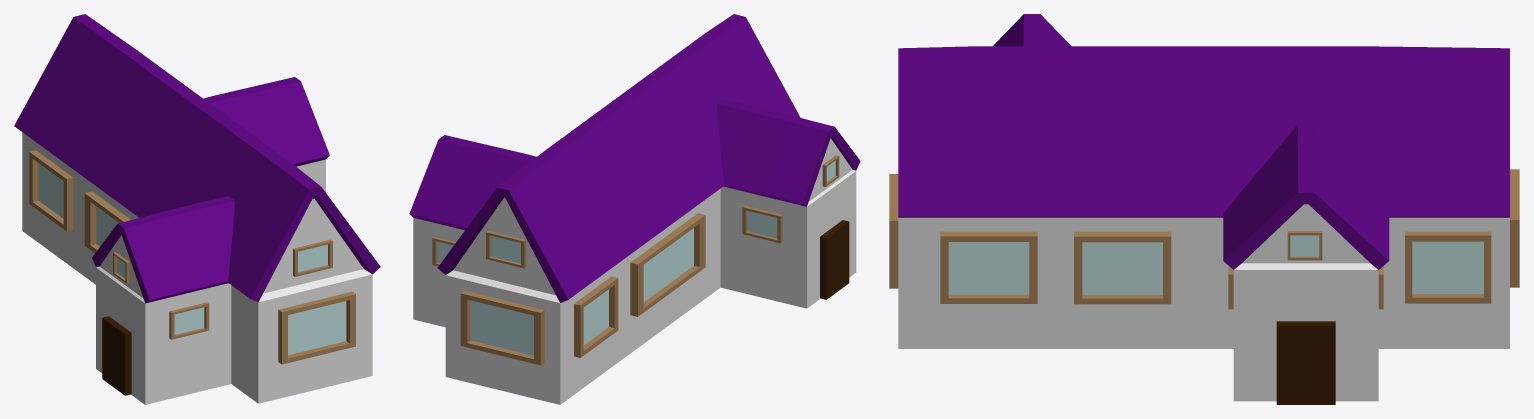
The model's file is House_Purple.fbx.
3 views of the same model, side by side, from view 1: azimuth 30°, elevation 25°; view 2: azimuth 150°, elevation 25°; view 3: azimuth 270°, elevation 25° (orthographic). The views are drawn at different scales.
Parts seen in each view (by area): view 1: pCube25; view 2: pCube25; view 3: pCube25.
Boxes of the visible parts, x1,y1,x2,y2 form: pCube25: [14, 14, 380, 404]; pCube25: [409, 14, 860, 404]; pCube25: [889, 14, 1519, 404].
Bounding box in the file's own units: 30.18 × 19.72 × 42.93.
